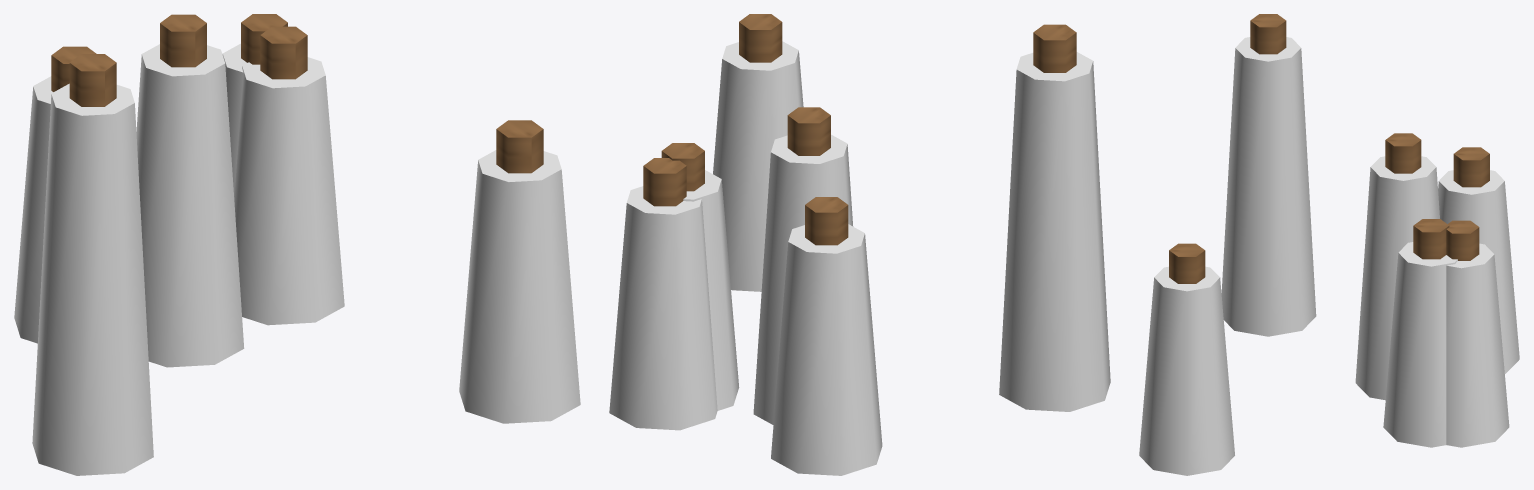
Rendered from vialCluster.glb.
The picture shows the model from 3 angles, left to right: view 1: azimuth 30°, elevation 25°; view 2: azimuth 150°, elevation 25°; view 3: azimuth 270°, elevation 25°; orthographic projection. The views are drawn at different scales.
Parts seen in each view (by area): view 1: dyn_color_tint, vialCluster; view 2: dyn_color_tint, vialCluster; view 3: dyn_color_tint, vialCluster.
Part boxes in pixels (box(x1,y1,x2,y2)): dyn_color_tint: box(14, 43, 580, 475); vialCluster: box(51, 14, 543, 173); dyn_color_tint: box(609, 41, 1110, 475); vialCluster: box(643, 14, 1076, 245); dyn_color_tint: box(1139, 37, 1519, 475); vialCluster: box(1169, 14, 1489, 283).
Bounding box in the file's own units: 0.2837 × 0.2178 × 0.2539.
2 materials, 2 textured.
